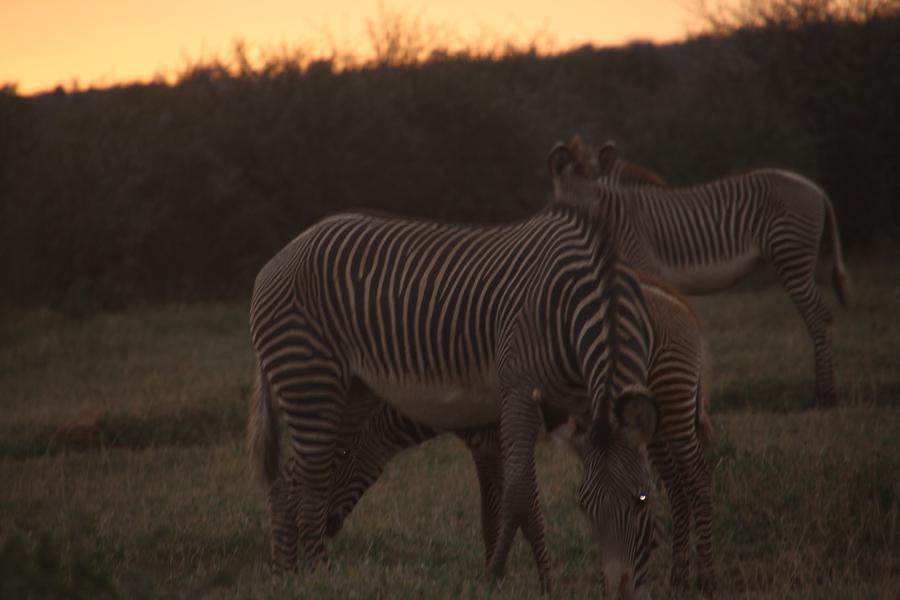zebra_grevys: (270, 188, 563, 392)
